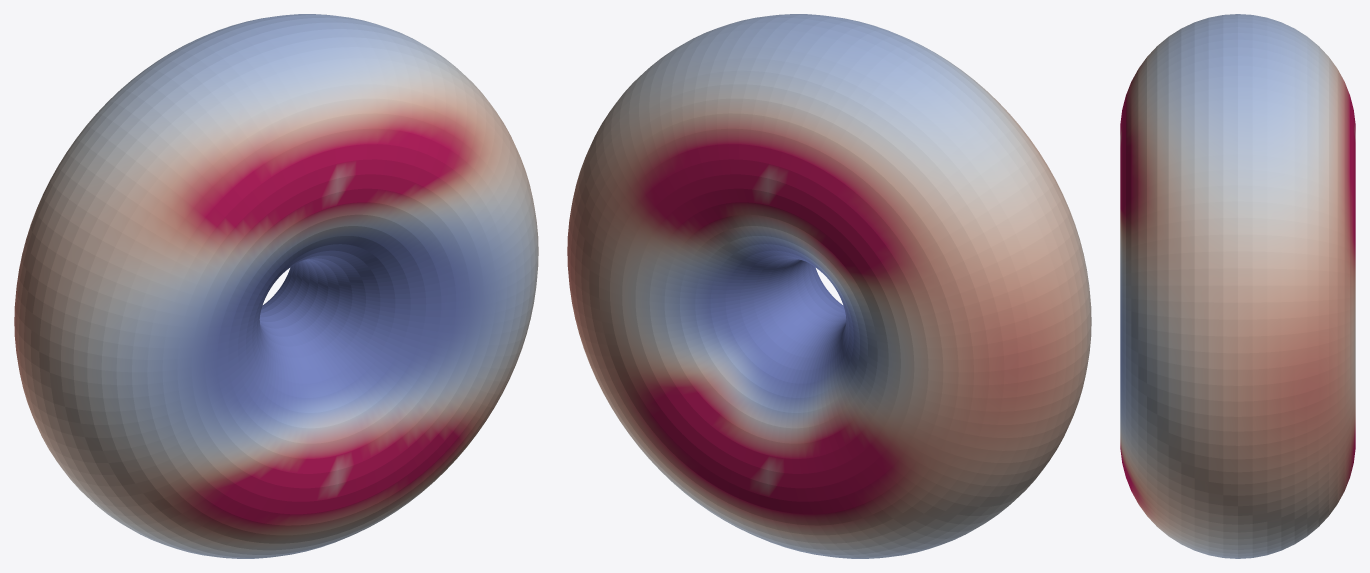
The picture shows the model from 3 angles, left to right: view 1: azimuth 30°, elevation 25°; view 2: azimuth 150°, elevation 25°; view 3: azimuth 270°, elevation 25°; orthographic projection. The views are drawn at different scales.
Parts seen in each view (by area): view 1: world; view 2: world; view 3: world.
Boxes of the visible parts, left/top/right/bottom form: world: left=14, top=14, right=538, bottom=558; world: left=567, top=14, right=1091, bottom=558; world: left=1120, top=14, right=1355, bottom=558.
Bounding box in the file's own units: 18.8 × 18.8 × 8.12.
